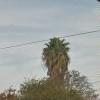Palm tree: (39, 29, 80, 91)
